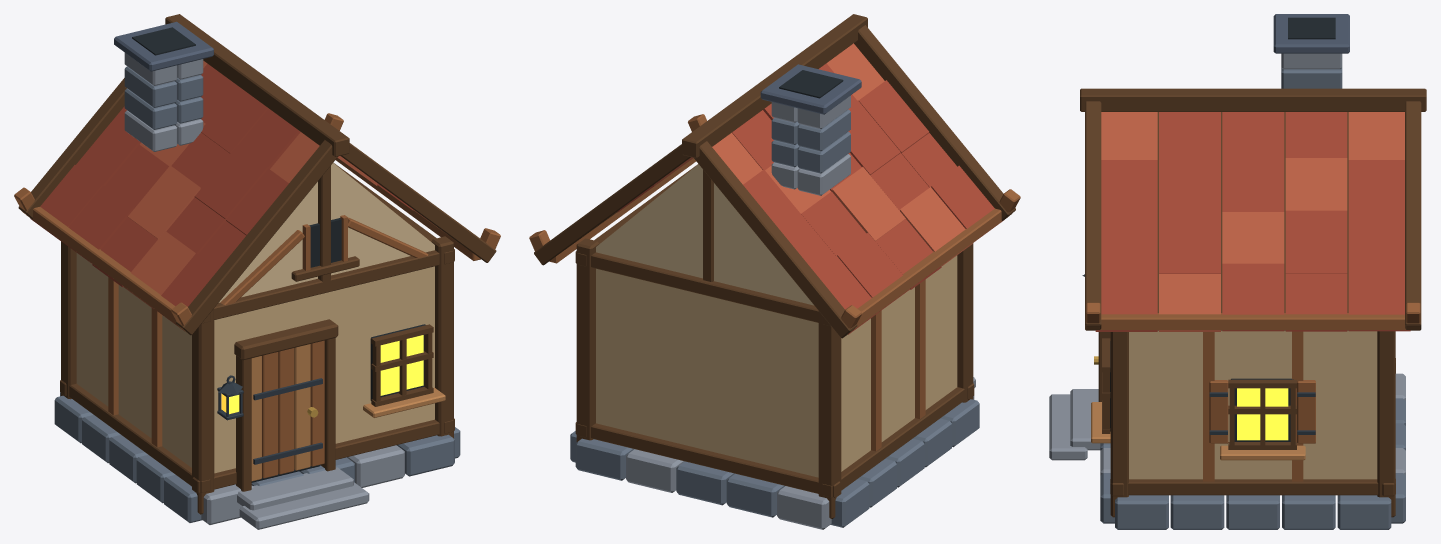
File: HouseRed.glb
The picture shows the model from 3 angles, left to right: view 1: azimuth 30°, elevation 25°; view 2: azimuth 150°, elevation 25°; view 3: azimuth 270°, elevation 25°; orthographic projection.
Parts seen in each view (by area): view 1: Solid plaster shell, Plaster gable, Bargeboard, Ridge cap, Massive corner timber, Facade horizontal timber.002, Massive corner timber.002, Bargeboard.002, Eave fascia, Overlapping roof tile.006, Overlapping roof tile.012, Bargeboard.001 (+56 smaller); view 2: Solid plaster shell, Plaster gable.001, Bargeboard.001, Ridge cap, Bargeboard, Massive corner timber.001, Facade horizontal timber.001, Facade horizontal timber.003, Massive corner timber.003, Bargeboard.003, Eave fascia, Overlapping roof tile.012 (+41 smaller); view 3: Solid plaster shell, Ridge cap, Eave fascia.001, Side horizontal timber.001, Overlapping roof tile.033, Overlapping roof tile.031, Bargeboard.003, Bargeboard.002, Overlapping roof tile.027, Overlapping roof tile.037, Overlapping roof tile.026, Overlapping roof tile.028 (+41 smaller).
Part boxes in pixels (<box>): Solid plaster shell: <box>76,253,434,473</box>; Plaster gable: <box>218,163,434,302</box>; Bargeboard: <box>176,140,337,335</box>; Ridge cap: <box>165,14,349,156</box>; Massive corner timber: <box>192,309,214,514</box>; Facade horizontal timber.002: <box>214,249,454,319</box>; Massive corner timber.002: <box>431,236,453,438</box>; Bargeboard.002: <box>340,143,496,262</box>; Eave fascia: <box>32,207,179,326</box>; Overlapping roof tile.006: <box>194,145,267,220</box>; Overlapping roof tile.012: <box>128,165,200,238</box>; Bargeboard.001: <box>18,78,126,218</box>; Solid plaster shell: <box>596,255,957,477</box>; Plaster gable.001: <box>596,164,813,305</box>; Bargeboard.001: <box>694,141,857,338</box>; Ridge cap: <box>682,14,867,158</box>; Bargeboard: <box>854,25,1015,220</box>; Massive corner timber.001: <box>818,311,841,518</box>; Facade horizontal timber.001: <box>575,422,840,497</box>; Facade horizontal timber.003: <box>575,251,818,322</box>; Massive corner timber.003: <box>576,238,599,441</box>; Bargeboard.003: <box>534,144,690,265</box>; Eave fascia: <box>853,208,1001,329</box>; Overlapping roof tile.012: <box>832,167,905,240</box>; Solid plaster shell: <box>1129,330,1377,479</box>; Ridge cap: <box>1080,88,1426,111</box>; Eave fascia.001: <box>1100,313,1405,330</box>; Side horizontal timber.001: <box>1110,479,1395,495</box>; Overlapping roof tile.033: <box>1285,210,1347,273</box>; Overlapping roof tile.031: <box>1159,210,1220,273</box>; Bargeboard.003: <box>1405,101,1421,330</box>; Bargeboard.002: <box>1085,101,1101,330</box>; Overlapping roof tile.027: <box>1222,158,1284,211</box>; Overlapping roof tile.037: <box>1222,263,1284,331</box>; Overlapping roof tile.026: <box>1159,157,1220,210</box>; Overlapping roof tile.028: <box>1285,158,1347,210</box>.
Bounding box in the file's own units: 10.01 × 11.68 × 9.9.
